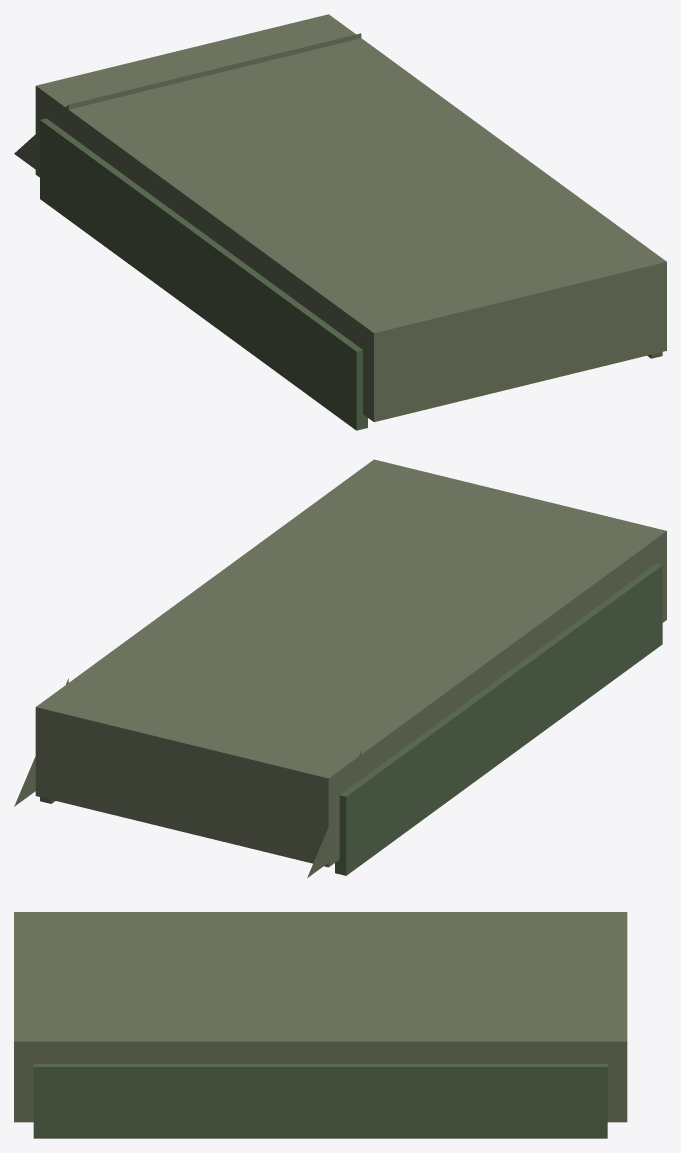
The model's file is v_shilka.glb.
3 views of the same model, one above another, from view 1: azimuth 30°, elevation 25°; view 2: azimuth 150°, elevation 25°; view 3: azimuth 270°, elevation 25° (orthographic). The views are drawn at different scales.
Visible parts, largest first — view 1: body; view 2: body; view 3: body.
Boxes of the visible parts, box(x1,y1,x2,y2) form: body: box(14, 14, 666, 430); body: box(14, 459, 666, 877); body: box(14, 912, 627, 1138).
Size of the model in its own units: 3.24 by 1.1 by 6.6.
